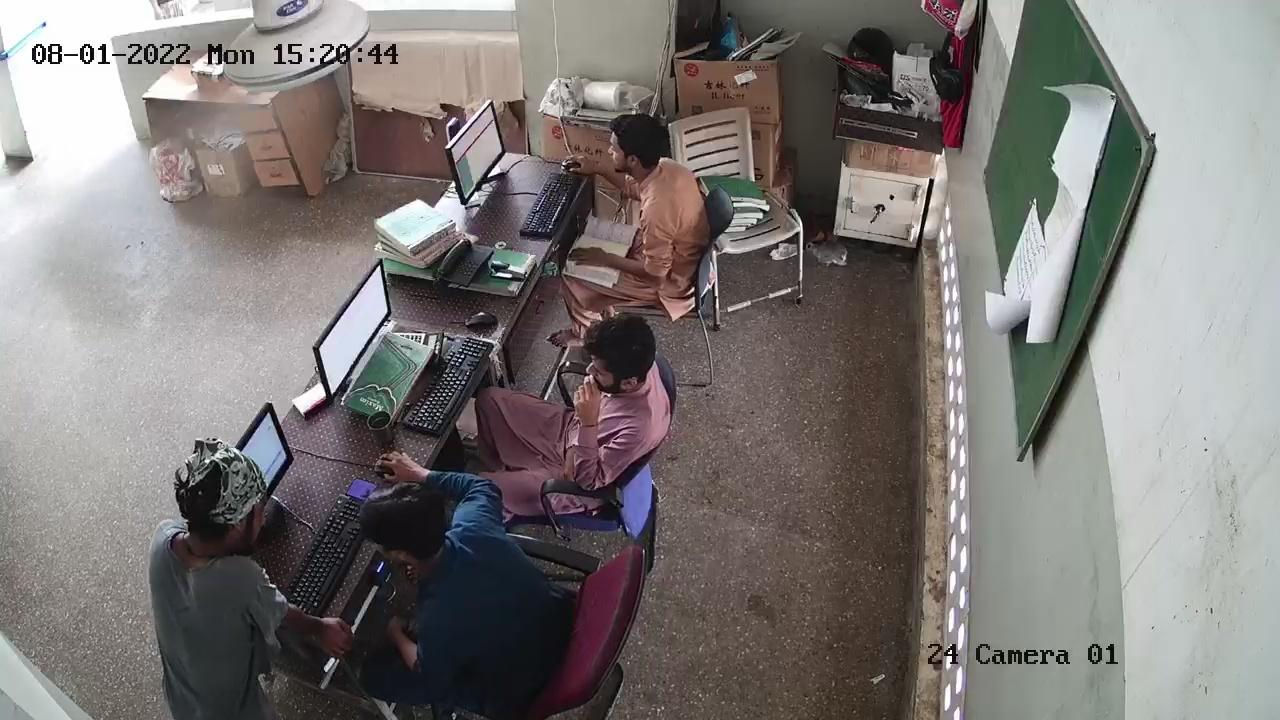person: (367, 457, 554, 680), (159, 442, 274, 715), (489, 307, 652, 465), (590, 105, 686, 297)
